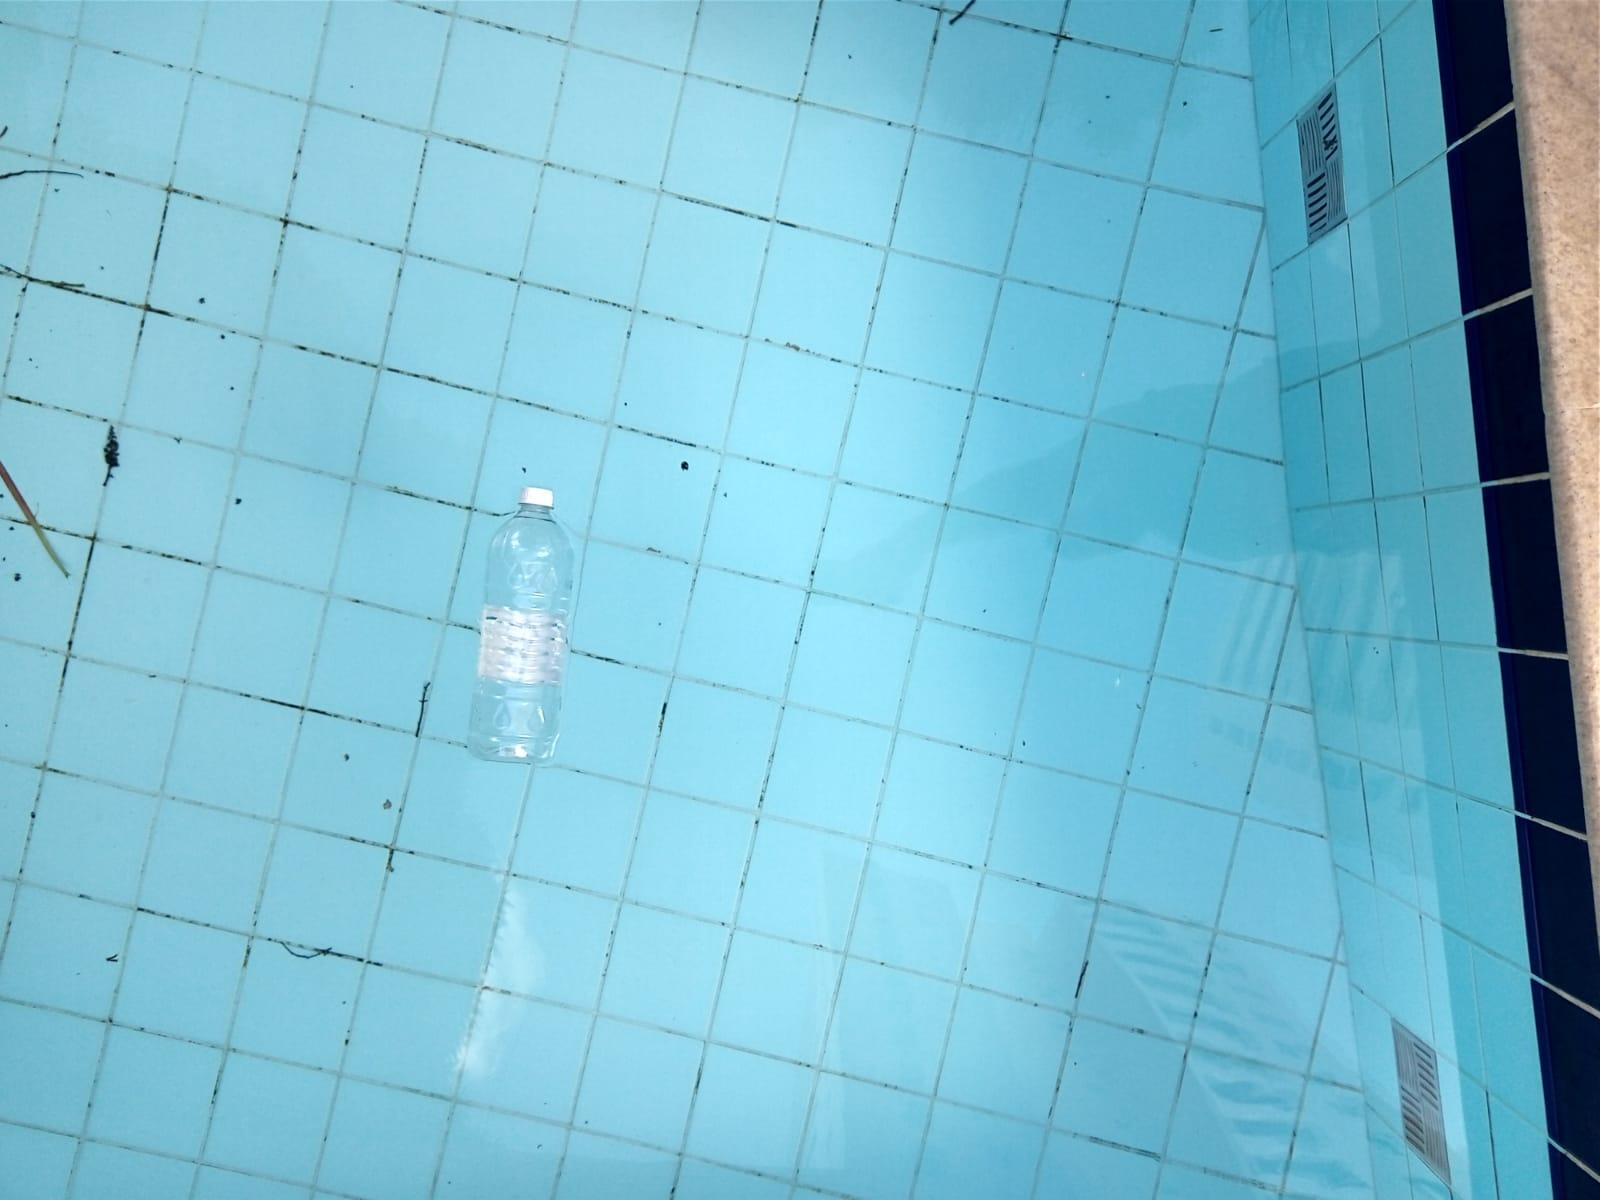Plastic: (382, 420, 648, 790)
